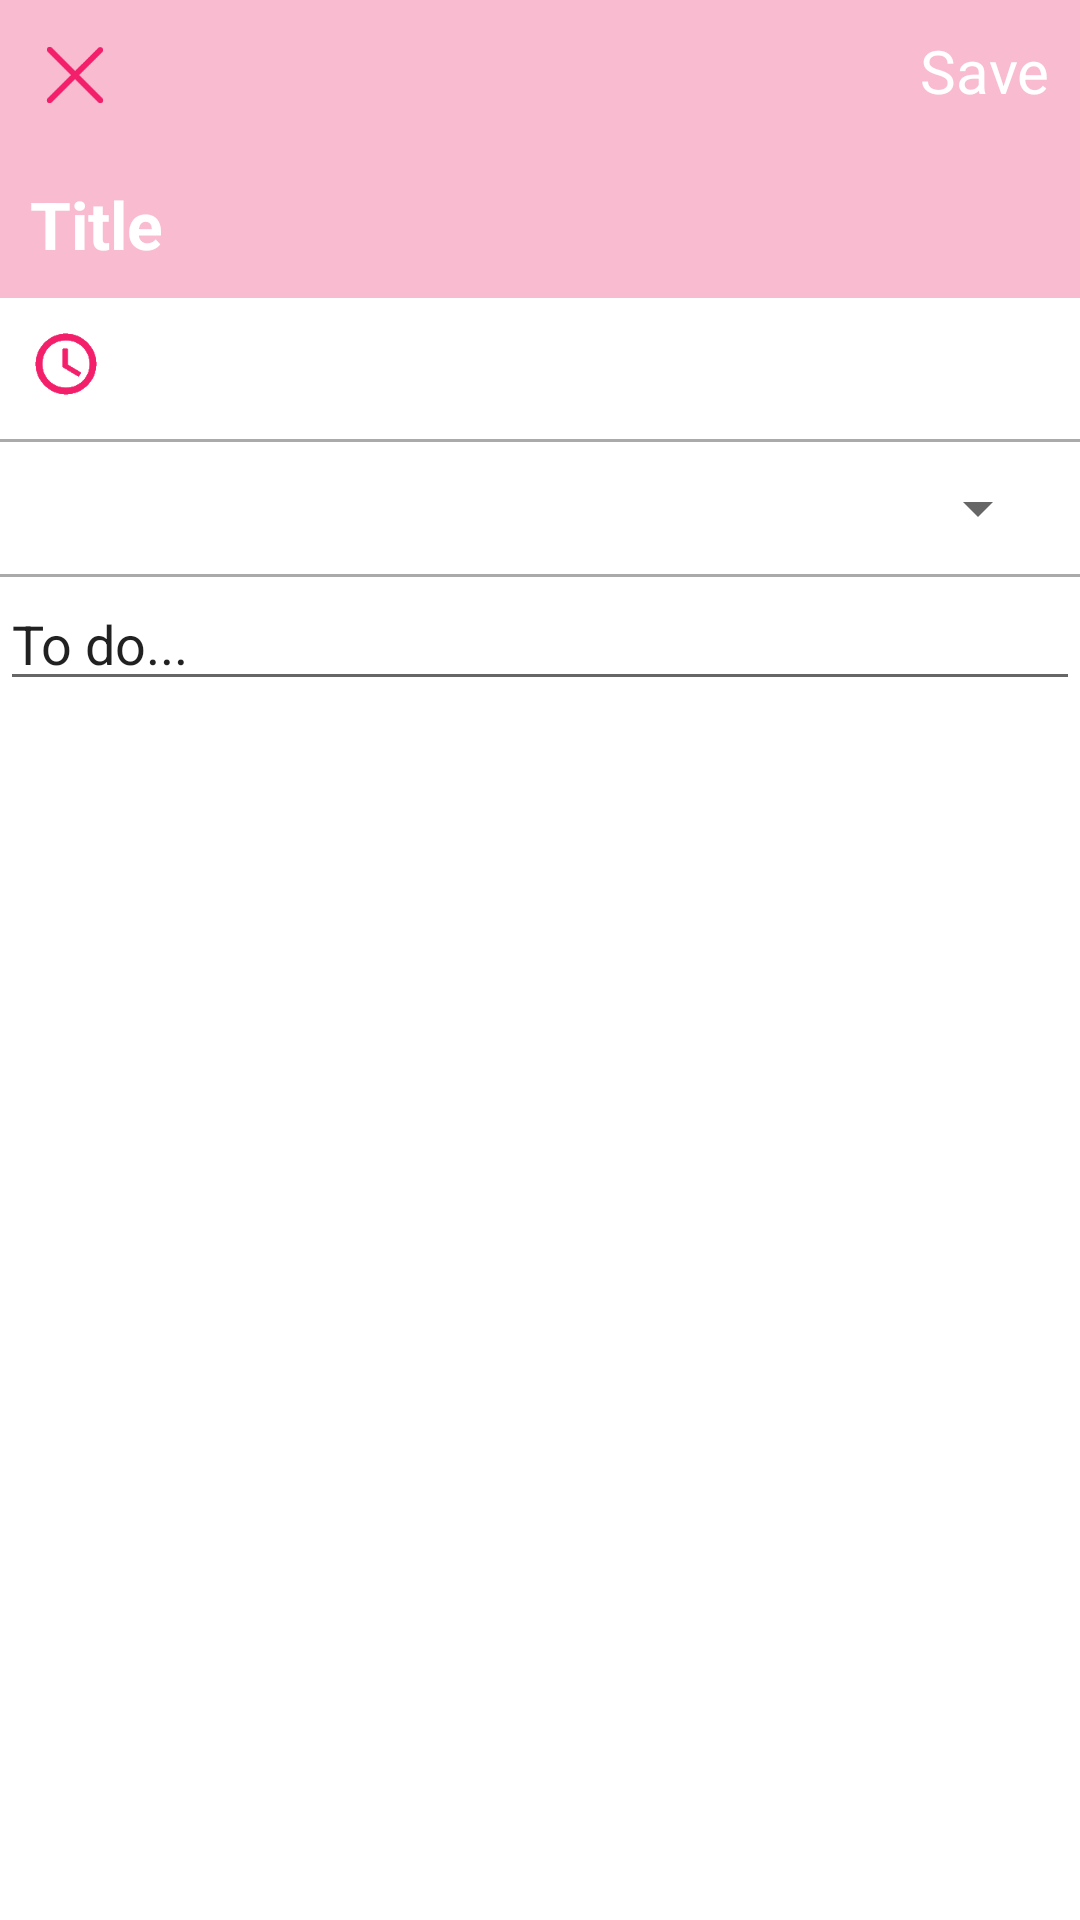

Icon bounding boxes for this 1080x1920 phone screenshot, format BBox(x1, y1, x2, y2):
cancel: BBox(47, 47, 103, 103)
clock: BBox(35, 333, 97, 395)
